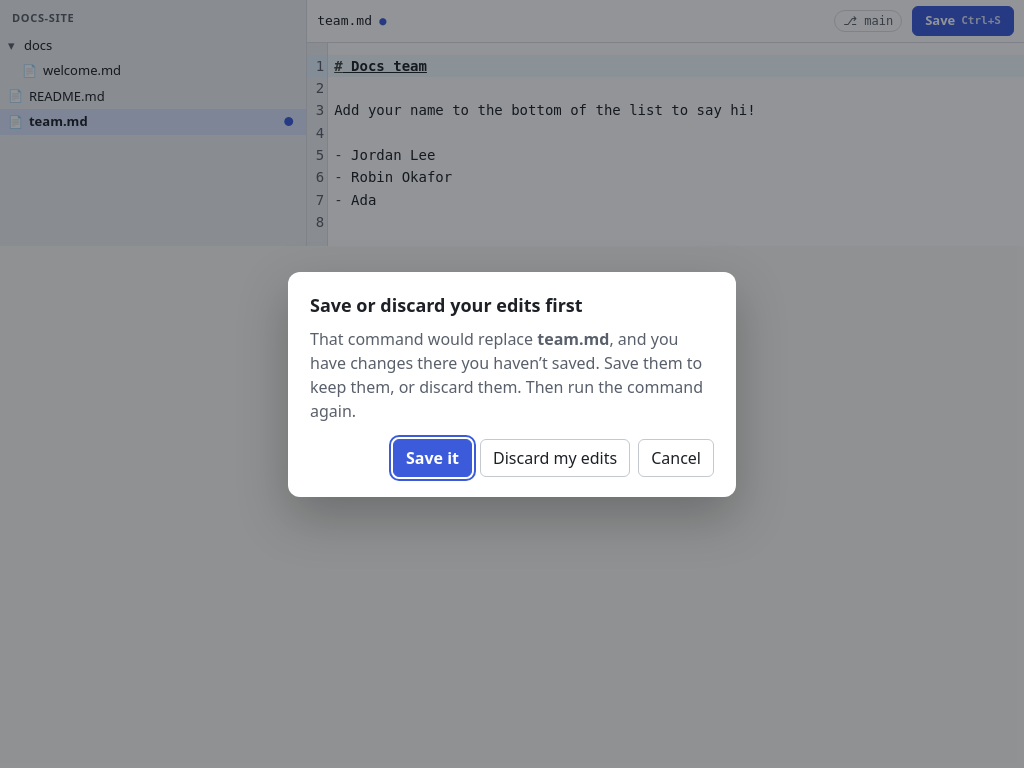
Test: Editor › stops a pull that would replace unsaved edits and offers to save or discard
This screenshot has width=1024, height=768.
Expected: the dialog "Save or discard your edits first" shows "team.md", [537,328,609,350]
Click the button "Discard my edits": (555, 458) [480,438,630,476]
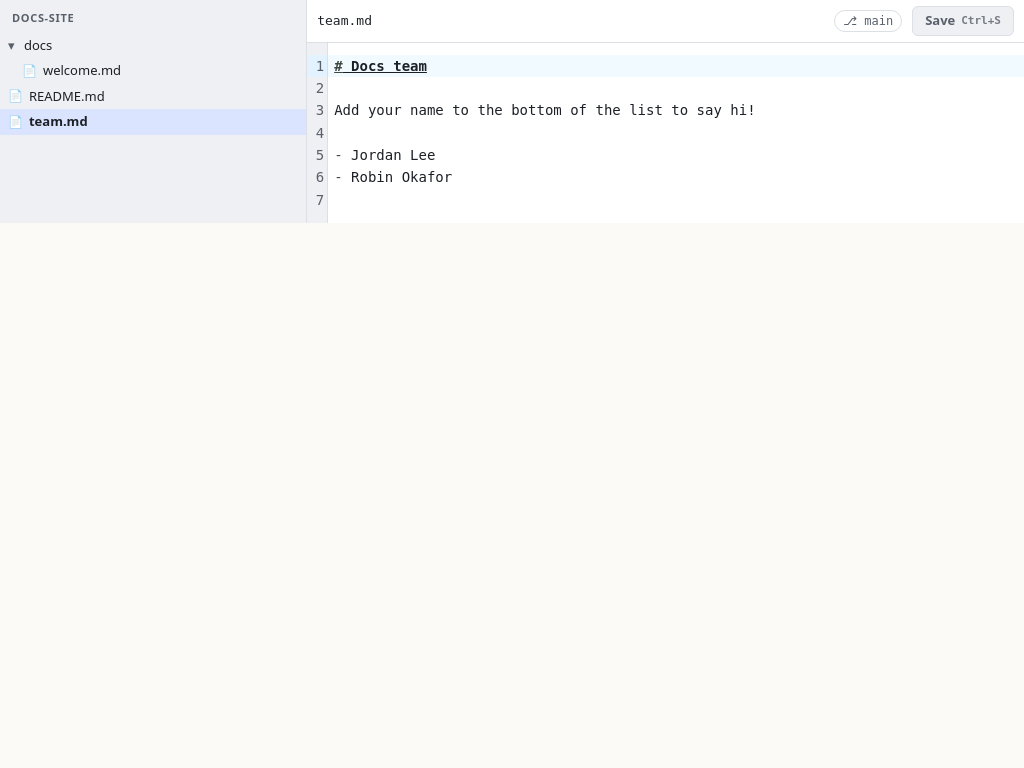
Now the dialog is gone
